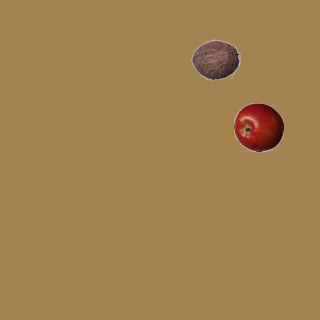Apple Braeburn: (233, 102, 283, 152)
Cocos: (190, 34, 240, 84)
